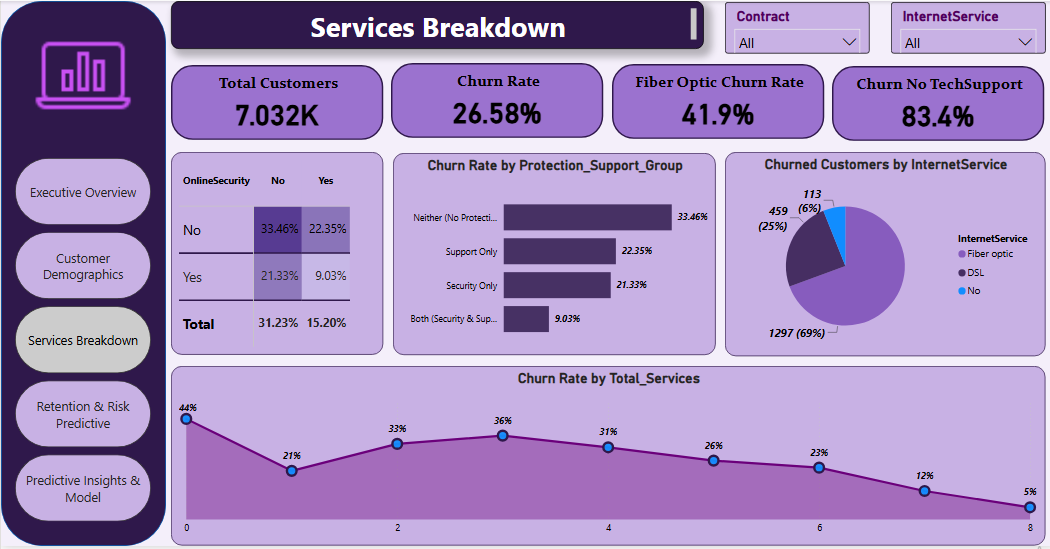

This screenshot's page, from the dashboard's own definition file:
{"tool":"powerbi","page":{"name":"Services Breakdown","canvas":[1450,750],"ordinal":2},"visuals":[{"type":"textbox","box":[234,0,733.2,65.9],"z":0},{"type":"slicer","fields":{"Values":["Data_Transformed.Contract"]},"box":[996.6,1.5,199.3,70.9],"z":1000},{"type":"slicer","fields":{"Values":["Data_Transformed.InternetService"]},"box":[1223.9,1.5,212.6,70.9],"z":2000},{"type":"pieChart","fields":{"Category":["Data_Transformed.InternetService"],"Y":["_Measures.Churned Customers"]},"box":[996.3,207.4,441.2,280.6],"z":3000},{"type":"lineChart","title":"Churn Rate by Total_Services","fields":{"Category":["Data_Transformed.Total_Services"],"Y":["_Measures.Churn Rate %"]},"box":[234,502.6,1202.8,247.2],"z":4000},{"type":"pivotTable","fields":{"Columns":["Data_Transformed.TechSupport"],"Rows":["Data_Transformed.OnlineSecurity"],"Values":["_Measures.Churn Rate %"]},"box":[233.3,208.3,292.3,279],"z":5000},{"type":"clusteredBarChart","title":"Churn Rate by Protection_Support_Group","fields":{"Category":["Data_Transformed.Protection_Support_Group"],"Y":["_Measures.Churn Rate %"]},"box":[539,209.6,444.4,277.6],"z":6000},{"type":"advanceCardE03760C5AB684758B56AA29F9E6C257B","title":"Total Customers","fields":{"mainMeasure":["_Measures.Total Customers"]},"box":[234,87.9,292.3,103.3],"z":7000},{"type":"advanceCardE03760C5AB684758B56AA29F9E6C257B","title":"Churn Rate","fields":{"mainMeasure":["_Measures.Churn Rate %"]},"box":[537.2,85.7,292.3,103.3],"z":8000},{"type":"advanceCardE03760C5AB684758B56AA29F9E6C257B","title":"Fiber Optic Churn Rate","fields":{"mainMeasure":["_Measures.Fiber Optic Churn Rate %"]},"box":[840.3,86.8,292.3,103.3],"z":9000},{"type":"advanceCardE03760C5AB684758B56AA29F9E6C257B","title":"Churn No TechSupport ","fields":{"mainMeasure":["_Measures.Churn No TechSupport %"]},"box":[1143.5,89,292.3,103.3],"z":10000},{"type":"shape","box":[0,0,227,749.8],"z":11000},{"type":"image","box":[44.5,35,137.5,136.1],"z":12000},{"type":"pageNavigator","box":[18.9,215.6,187.3,502.6],"z":13000}]}

Visuals, with their boxes in screenshot pixels (x1, y1, x2, y2), scaled from the page's 1450x750 canvas onto the 1050x549 screenshot:
textbox: select_region(169, 0, 700, 48)
slicer - Data_Transformed.Contract: select_region(722, 1, 866, 53)
slicer - Data_Transformed.InternetService: select_region(886, 1, 1040, 53)
pieChart - Data_Transformed.InternetService x _Measures.Churned Customers: select_region(721, 152, 1041, 357)
"Churn Rate by Total_Services" lineChart: select_region(169, 368, 1040, 548)
pivotTable - Data_Transformed.TechSupport x Data_Transformed.OnlineSecurity: select_region(169, 152, 381, 357)
"Churn Rate by Protection_Support_Group" clusteredBarChart: select_region(390, 153, 712, 357)
"Total Customers" advanceCardE03760C5AB684758B56AA29F9E6C257B: select_region(169, 64, 381, 140)
"Churn Rate" advanceCardE03760C5AB684758B56AA29F9E6C257B: select_region(389, 63, 601, 138)
"Fiber Optic Churn Rate" advanceCardE03760C5AB684758B56AA29F9E6C257B: select_region(608, 64, 820, 139)
"Churn No TechSupport " advanceCardE03760C5AB684758B56AA29F9E6C257B: select_region(828, 65, 1040, 141)
shape: select_region(0, 0, 164, 548)
image: select_region(32, 26, 132, 125)
pageNavigator: select_region(14, 158, 149, 526)
